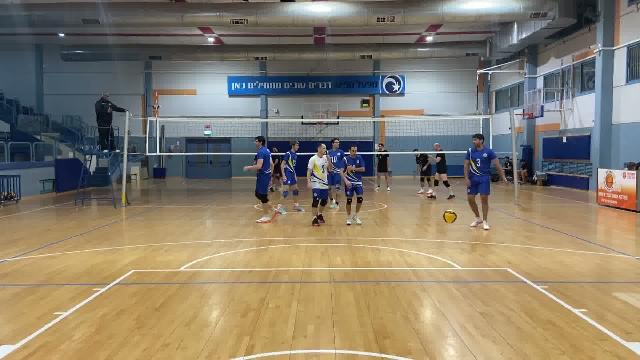ball: (443, 209, 458, 224)
